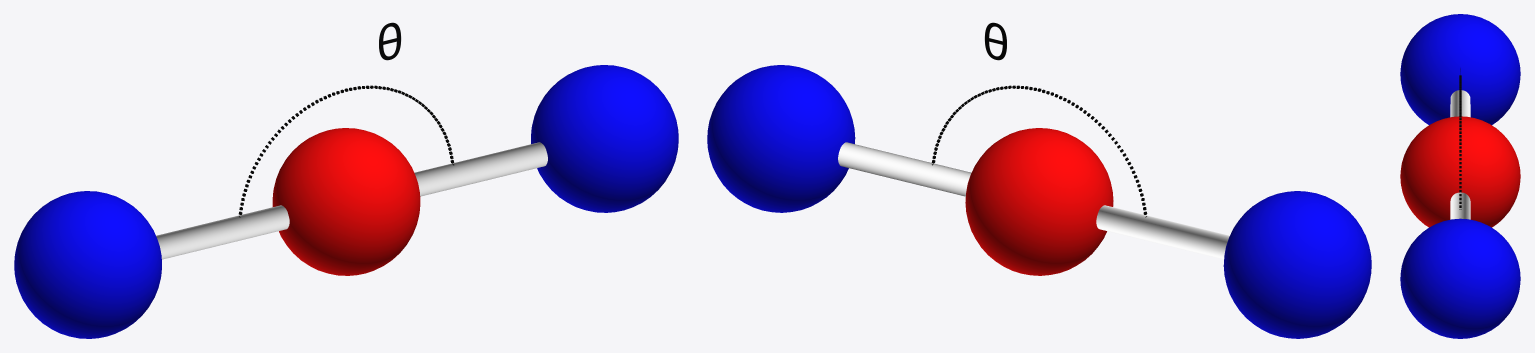
Rendered from linear.glb.
The picture shows the model from 3 angles, left to right: view 1: azimuth 30°, elevation 25°; view 2: azimuth 150°, elevation 25°; view 3: azimuth 270°, elevation 25°; orthographic projection. The views are drawn at different scales.
Visible parts, largest first — view 1: linear, Cube; view 2: linear, Cube; view 3: linear, Cube.
Boxes of the visible parts, <box> form: linear: <box>14,65,678,338</box>; Cube: <box>238,85,454,217</box>; linear: <box>707,65,1371,338</box>; Cube: <box>931,85,1147,217</box>; linear: <box>1400,14,1520,338</box>; Cube: <box>1459,75,1461,209</box>.
Size of the model in its own units: 3.02 by 1.07 by 0.6.
Materials: 5 (1 with a texture image).
